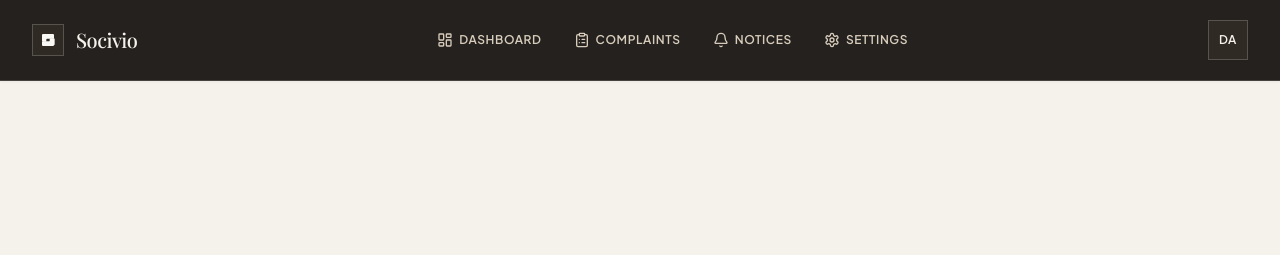
Test case: Navbar Profile Trigger & Dropdown › closes dropdown on Escape key
The width and height of the screenshot is (1280, 255).
Click the button with aria-label "Open account menu": [1228, 40] box [1208,20,1248,60]
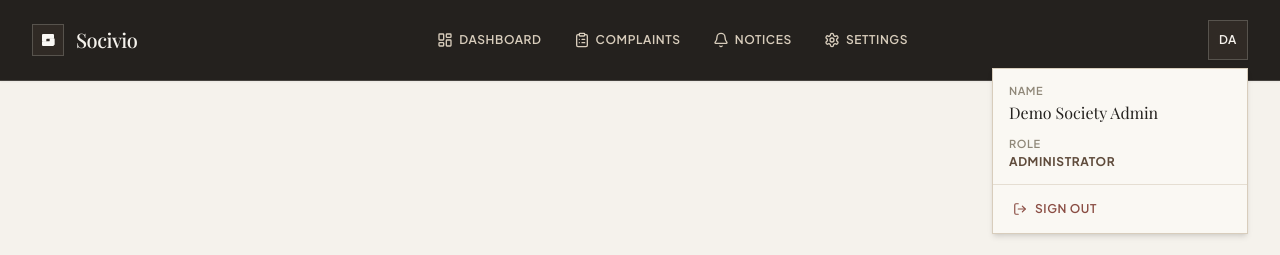
Check: the text "Demo Society Admin" is shown, box [1009,102,1158,122]
Press Escape
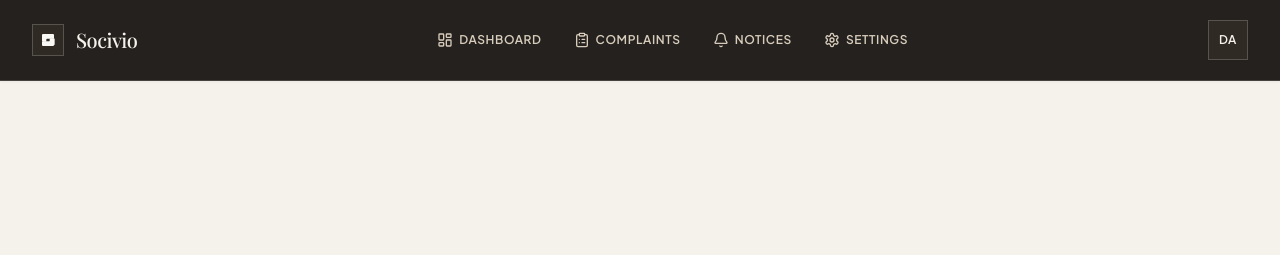
Check: the text "ADMINISTRATOR" is gone
